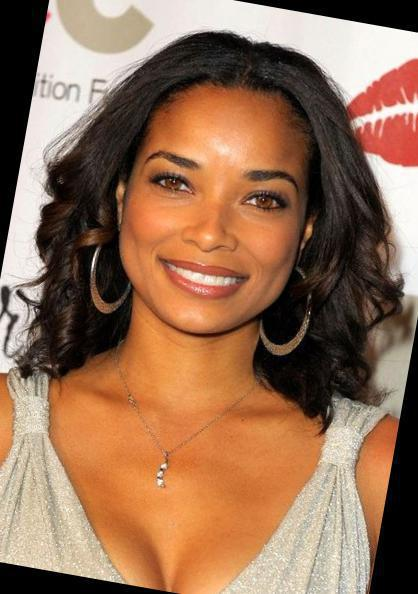Sober: (143, 102, 300, 310)
